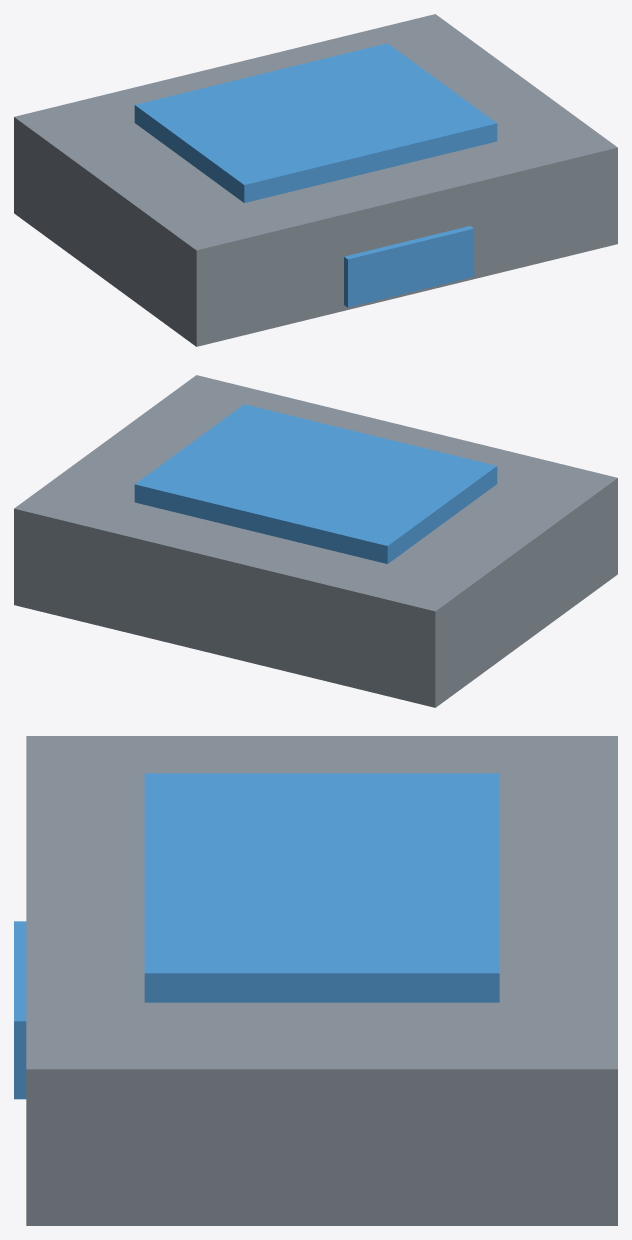
The model's file is SM_Alliance_AL_ShrikeInterceptor_Blockout.fbx.
3 renders of one model, top to bottom at view 1: azimuth 30°, elevation 25°; view 2: azimuth 150°, elevation 25°; view 3: azimuth 270°, elevation 25°, orthographic. The views are drawn at different scales.
Visible parts, largest first — view 1: MainBuilding, RoofStructure, EntranceGate; view 2: MainBuilding, RoofStructure; view 3: MainBuilding, RoofStructure, EntranceGate.
Boxes of the visible parts, x1,y1,x2,y2 form: MainBuilding: [14, 14, 617, 346]; RoofStructure: [134, 43, 497, 202]; EntranceGate: [344, 226, 474, 307]; MainBuilding: [14, 375, 617, 707]; RoofStructure: [134, 404, 497, 563]; MainBuilding: [26, 736, 617, 1225]; RoofStructure: [144, 773, 499, 1002]; EntranceGate: [14, 921, 26, 1099].
Bounding box in the file's own units: 640 × 166 × 490.
